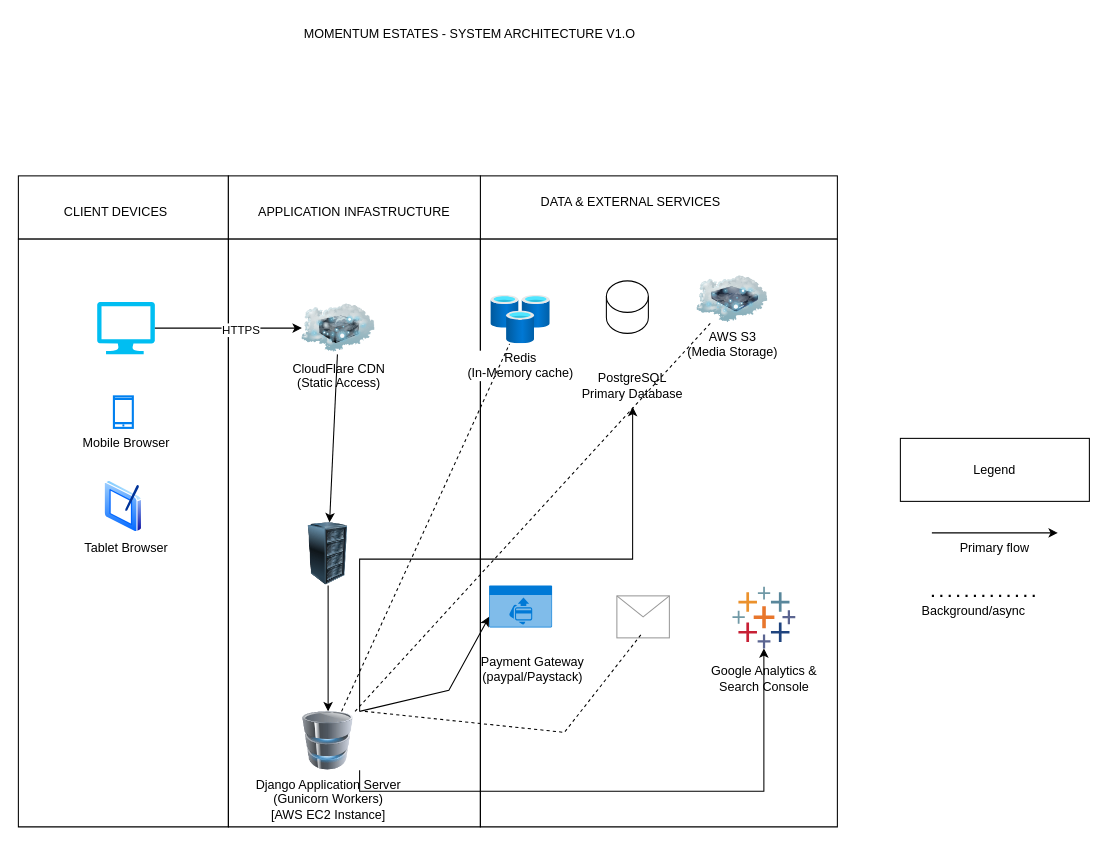
This 1108x845 diagram has some shape labels left out. Each missing label, with the centre of its shape:
Desktop Browser: pixel 125 327
Load Balancer (Nginx): pixel 327 553
Payment: pixel 520 606
SendGrid (Email Service): pixel 642 616
